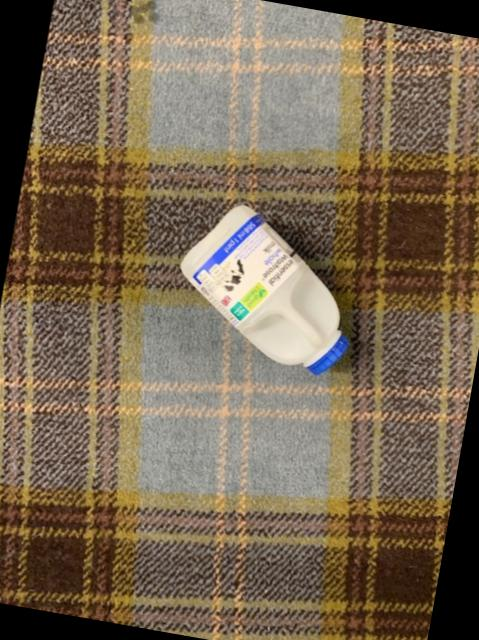plastic: (181, 206, 347, 374)
